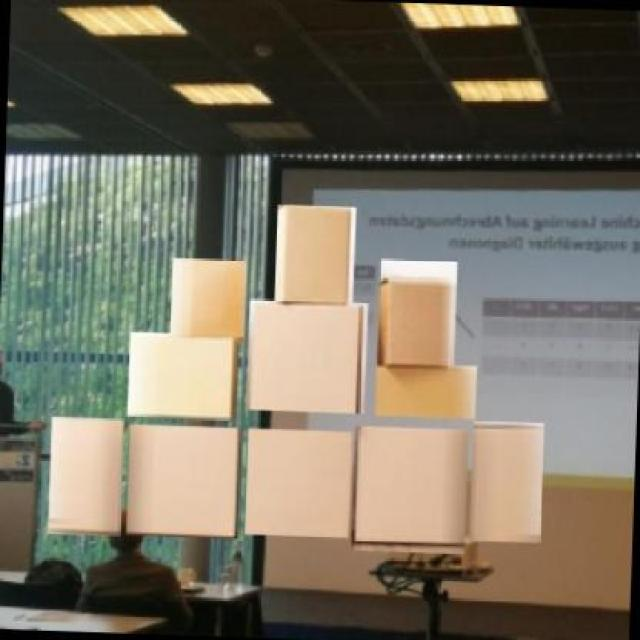box: (349, 424, 469, 558), (243, 297, 369, 417), (123, 423, 243, 542), (242, 427, 355, 541), (124, 331, 239, 423), (467, 420, 545, 546), (46, 416, 125, 538), (374, 258, 458, 367), (272, 205, 357, 309), (168, 258, 247, 345), (372, 362, 478, 422)
